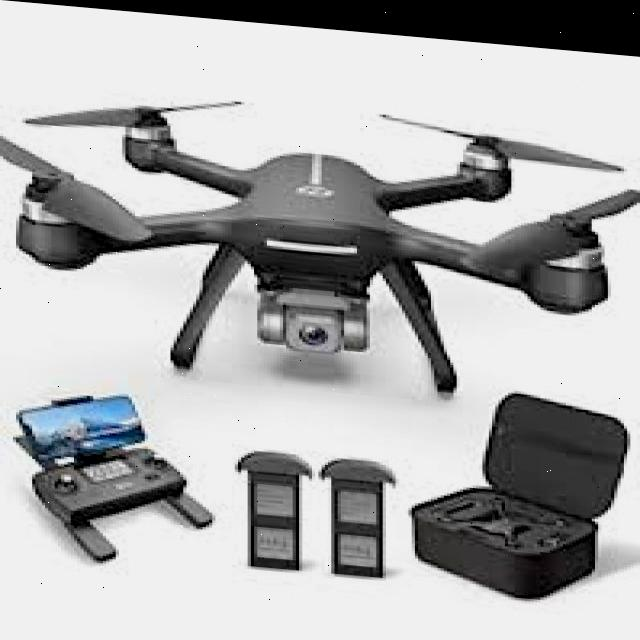drone: (0, 56, 640, 413)
